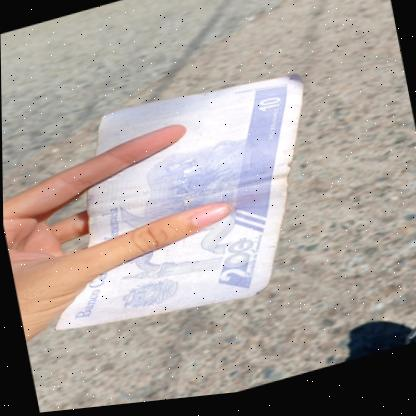ten-back-vef: (19, 63, 339, 356)
